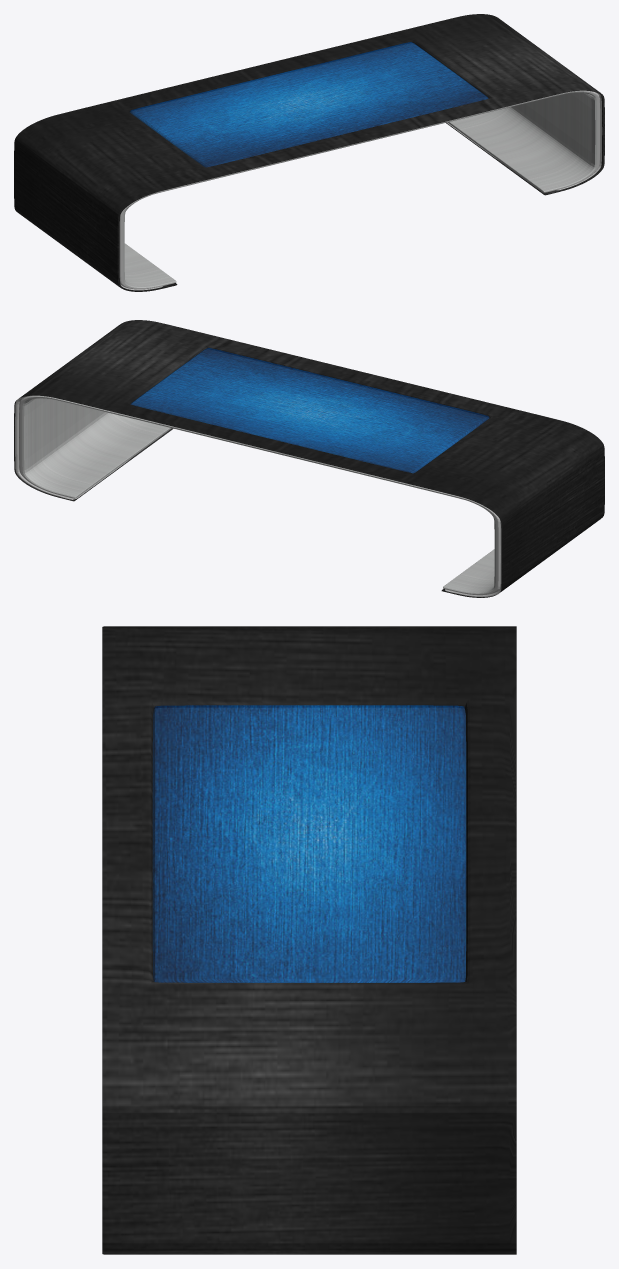
The model's file is FutureDesk.fbx.
3 views of the same model, one above another, from view 1: azimuth 30°, elevation 25°; view 2: azimuth 150°, elevation 25°; view 3: azimuth 270°, elevation 25° (orthographic). The views are drawn at different scales.
Visible parts, largest first — view 1: Plane.001, Plane.002, Plane; view 2: Plane.001, Plane.002, Plane; view 3: Plane.001, Plane.002.
Part boxes in pixels (x1,y1,x2,y2): Plane.001: [14, 14, 604, 291]; Plane.002: [130, 42, 488, 167]; Plane: [119, 90, 602, 290]; Plane.001: [14, 320, 604, 597]; Plane.002: [130, 347, 489, 473]; Plane: [15, 395, 501, 597]; Plane.001: [102, 626, 516, 1254]; Plane.002: [152, 705, 466, 982].
Size of the model in its own units: 671 by 130 by 246.
Materials: 3 (3 with a texture image).
